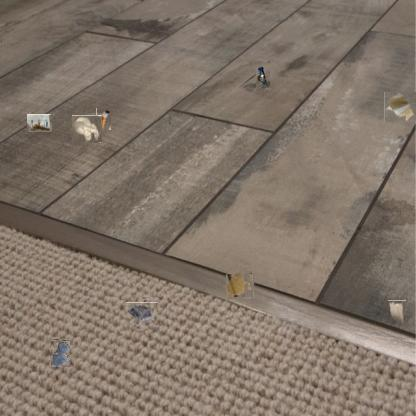dirty: (384, 92, 416, 122), (73, 114, 102, 143), (129, 300, 156, 327), (388, 300, 406, 325), (27, 114, 52, 131), (256, 68, 270, 94), (96, 108, 111, 130)
liquid: (227, 272, 253, 298), (50, 340, 70, 368)
